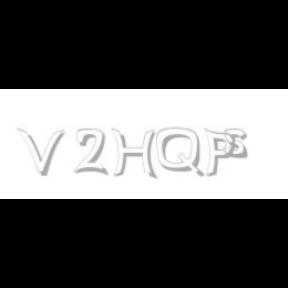2: (73, 128, 107, 176)
H: (111, 128, 157, 180)
P: (203, 128, 235, 178)
Q: (156, 128, 202, 178)
V: (17, 128, 65, 176)
s: (224, 128, 252, 160)
